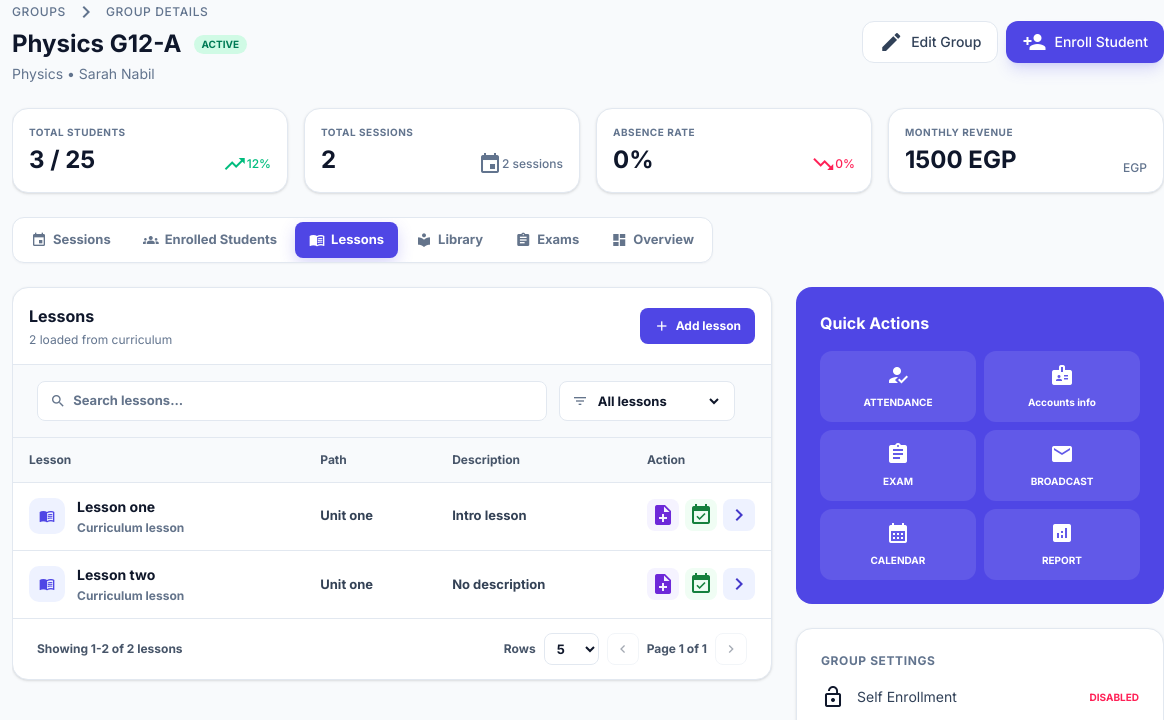
Test case: TenantGroupDetailsComponent › renders curriculum lessons in a searchable paginated table
In the search field with placeholder "Search lessons...": (304, 401) [73,391,534,411], type "two"
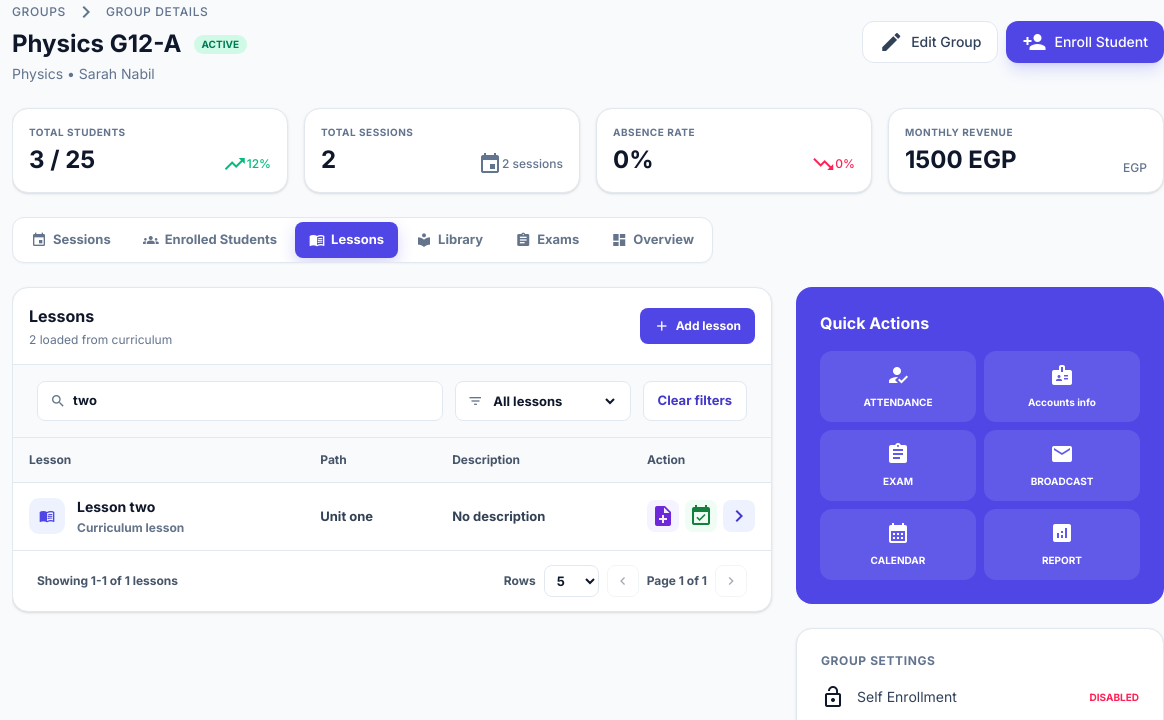
Expected: the text "Lesson two" is shown, [77,498,155,515]
Expected: the text "Lesson one" is gone
Select "With description" in the 1st dropdown: (553, 401) [489,392,618,410]
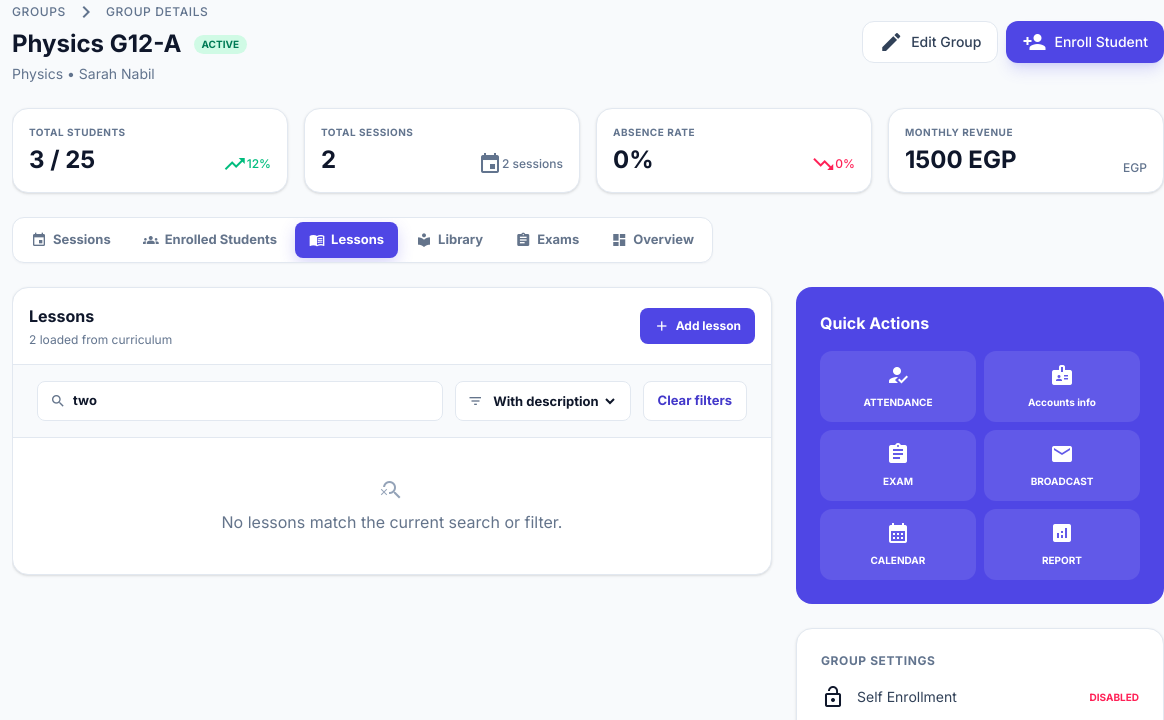
Expected: the text "No lessons match the current search or filter." is shown, [222,510,562,534]
